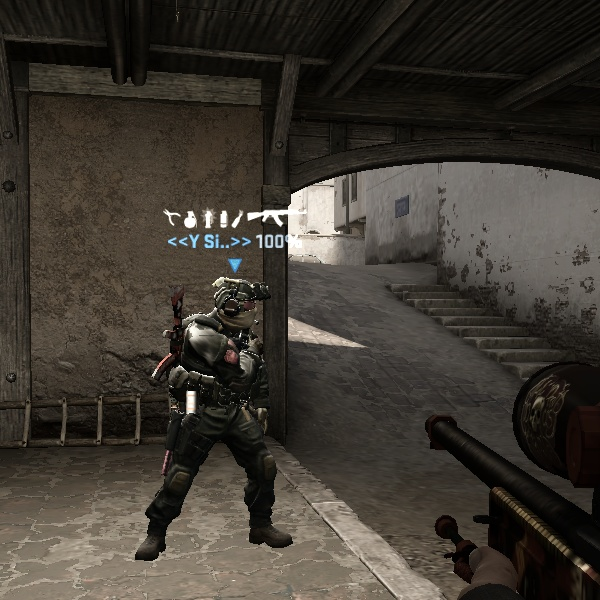ct_body: (130, 263, 313, 567)
ct_head: (202, 268, 275, 339)
